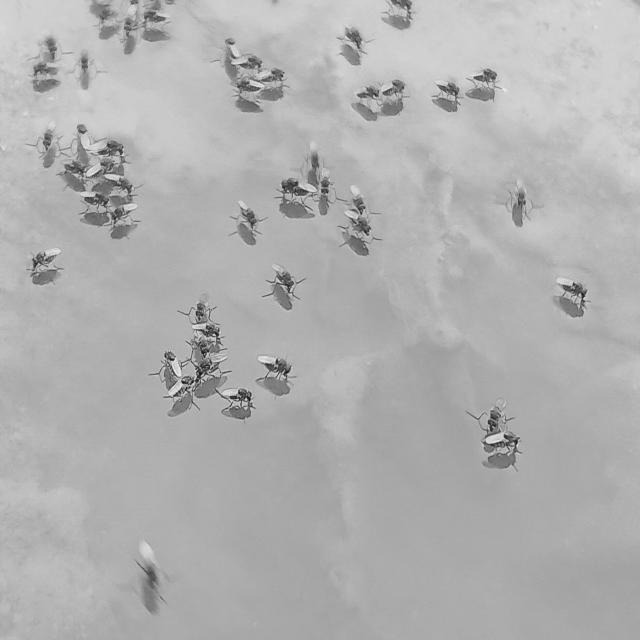Mosquito: (468, 385, 534, 474), (527, 254, 598, 313), (429, 67, 487, 132), (492, 168, 552, 224), (218, 192, 272, 250), (262, 262, 318, 312), (468, 56, 520, 105)
Mosquito Swarm: (34, 121, 142, 276), (166, 294, 292, 417)
